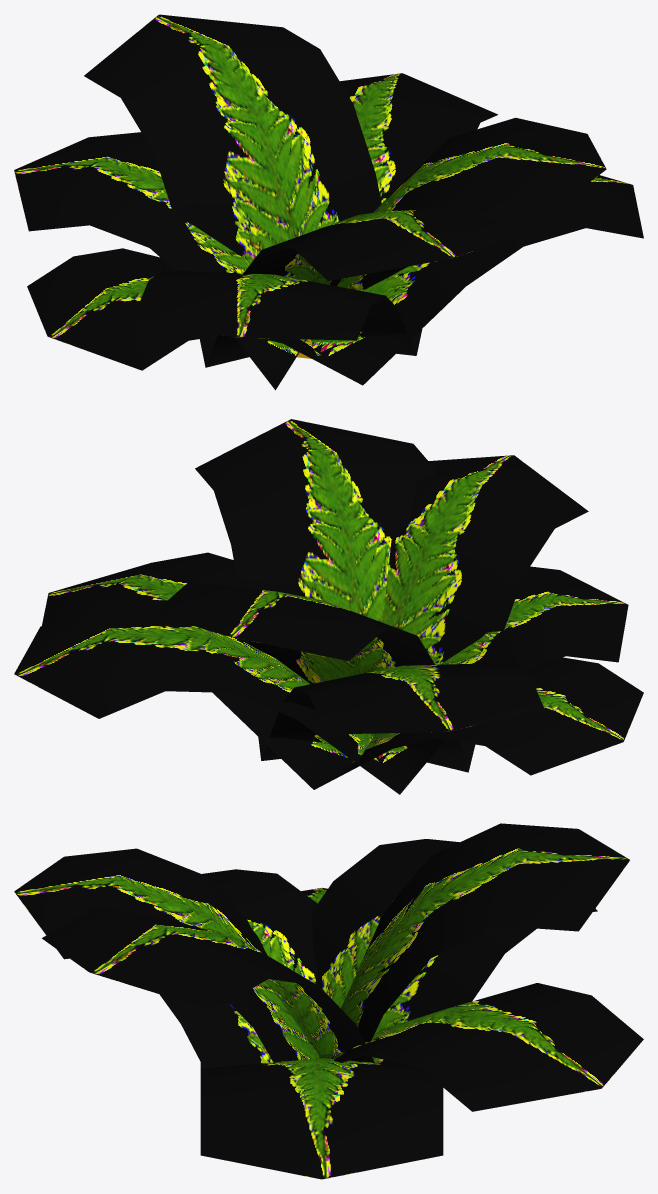
The model's file is Fern.gltf.
3 views of the same model, one above another, from view 1: azimuth 30°, elevation 25°; view 2: azimuth 150°, elevation 25°; view 3: azimuth 270°, elevation 25° (orthographic). The views are drawn at different scales.
Parts seen in each view (by area): view 1: FernLeaves; view 2: FernLeaves; view 3: FernLeaves.
Part boxes in pixels (x1,y1,x2,y2): FernLeaves: [14, 14, 643, 390]; FernLeaves: [14, 419, 643, 794]; FernLeaves: [14, 823, 643, 1179].
Size of the model in its own units: 44.01 by 17.04 by 38.92.
Materials: 2 (1 with a texture image).
